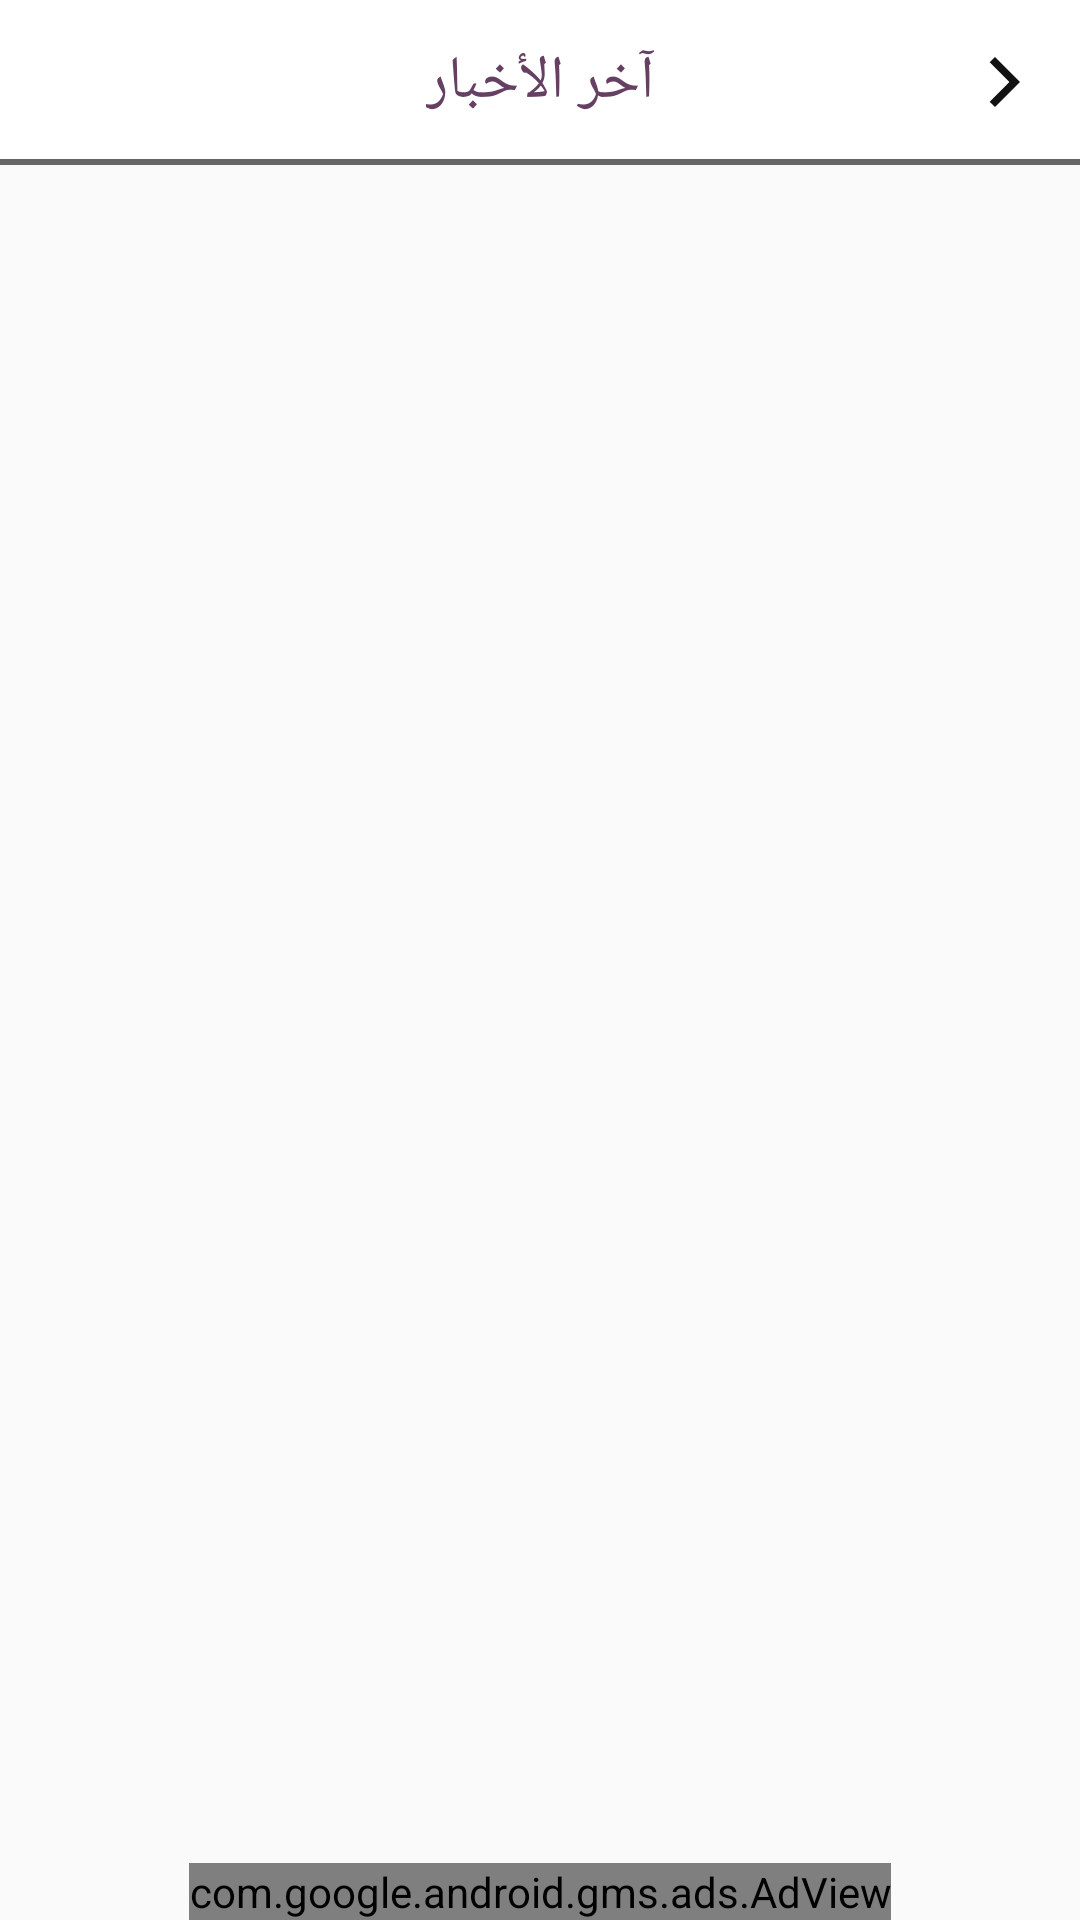

Named icons in this screenshot (1080px×1920px) and their centers, (x=x, y=y):
arrow forward: (x=1005, y=82)
